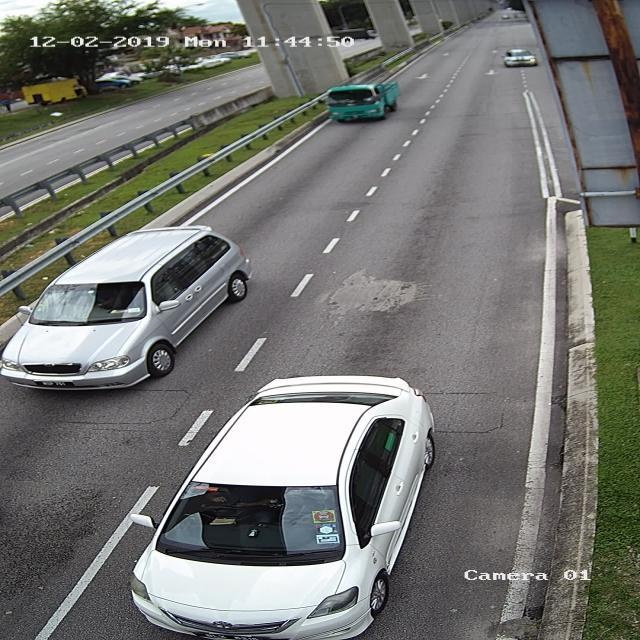Truck: (318, 73, 407, 135)
